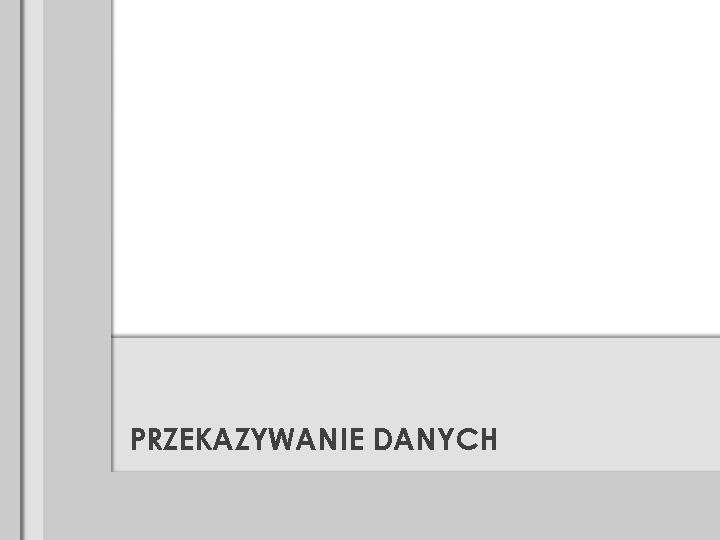title: (115, 406, 527, 477)
